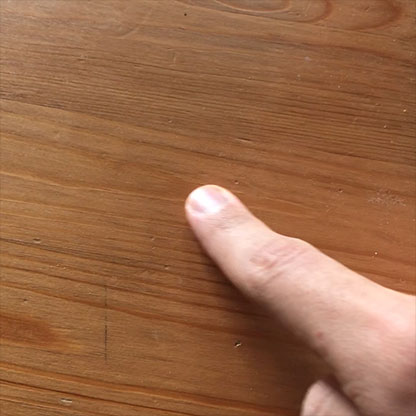fingertip: (174, 177, 243, 234)
